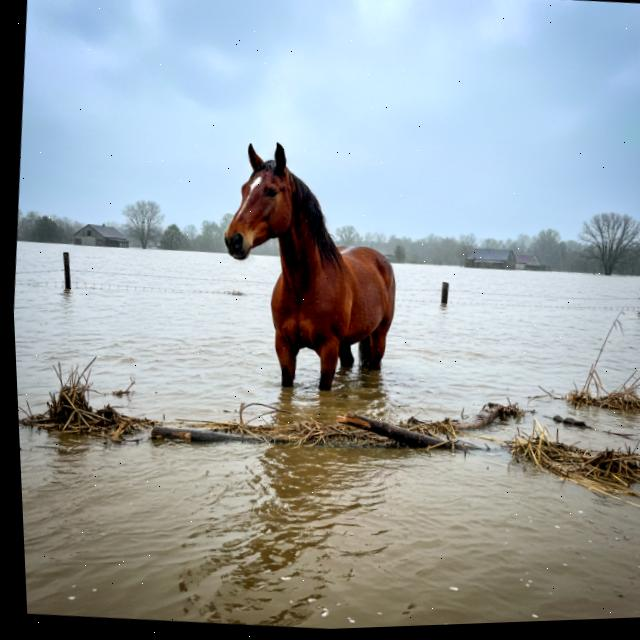horse: (199, 122, 440, 413)
